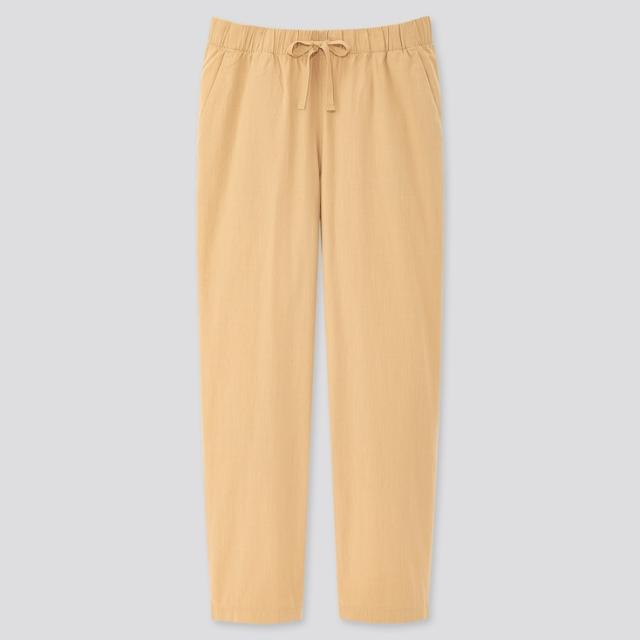long-pants: (195, 18, 446, 630)
